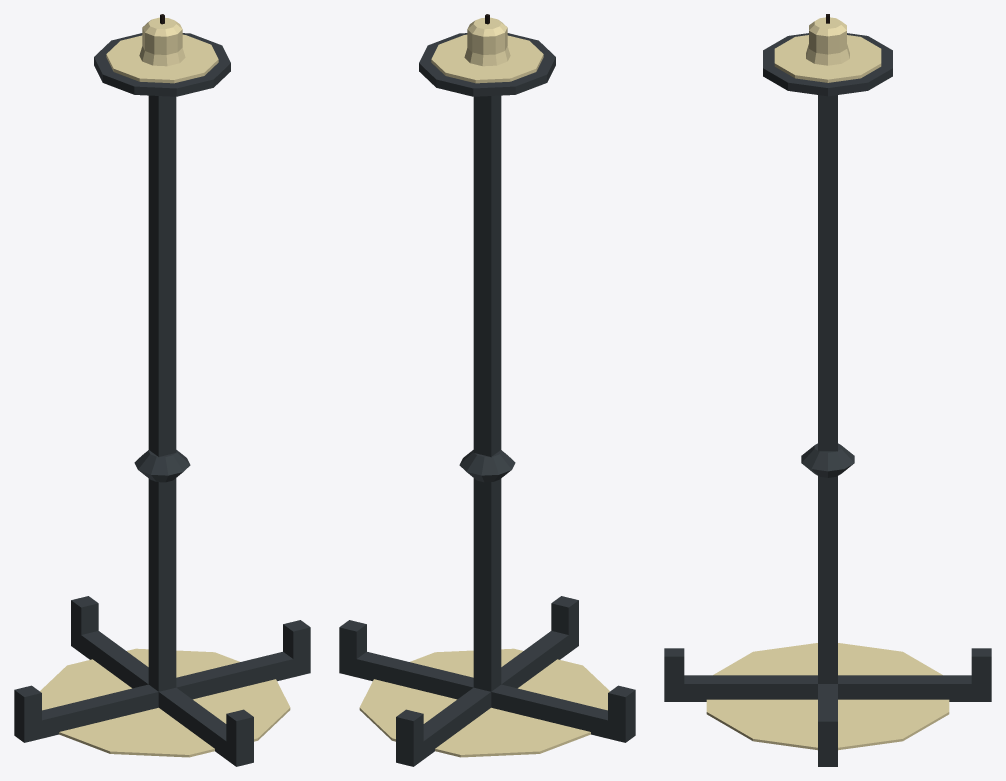
File: pricket.glb
The picture shows the model from 3 angles, left to right: view 1: azimuth 30°, elevation 25°; view 2: azimuth 150°, elevation 25°; view 3: azimuth 270°, elevation 25°; orthographic projection.
Parts seen in each view (by area): view 1: pricket; view 2: pricket; view 3: pricket.
Boxes of the visible parts, x1,y1,x2,y2 form: pricket: (14,14,310,766); pricket: (339,14,635,766); pricket: (664,14,991,766).
Size of the model in its own units: 0.36 by 0.828 by 0.36.
1 material, 1 textured.
